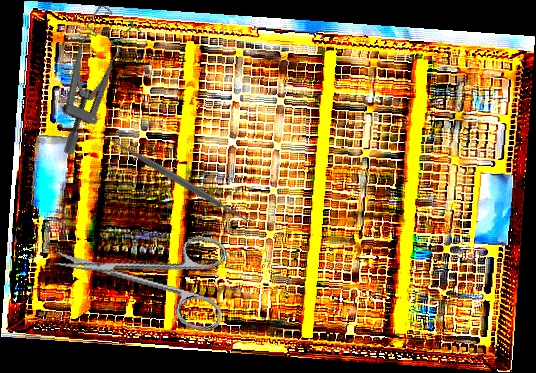Iris Scissors: (46, 209, 236, 334)
Spatula Surgical: (99, 126, 259, 233)
Speculum: (19, 0, 156, 158)
